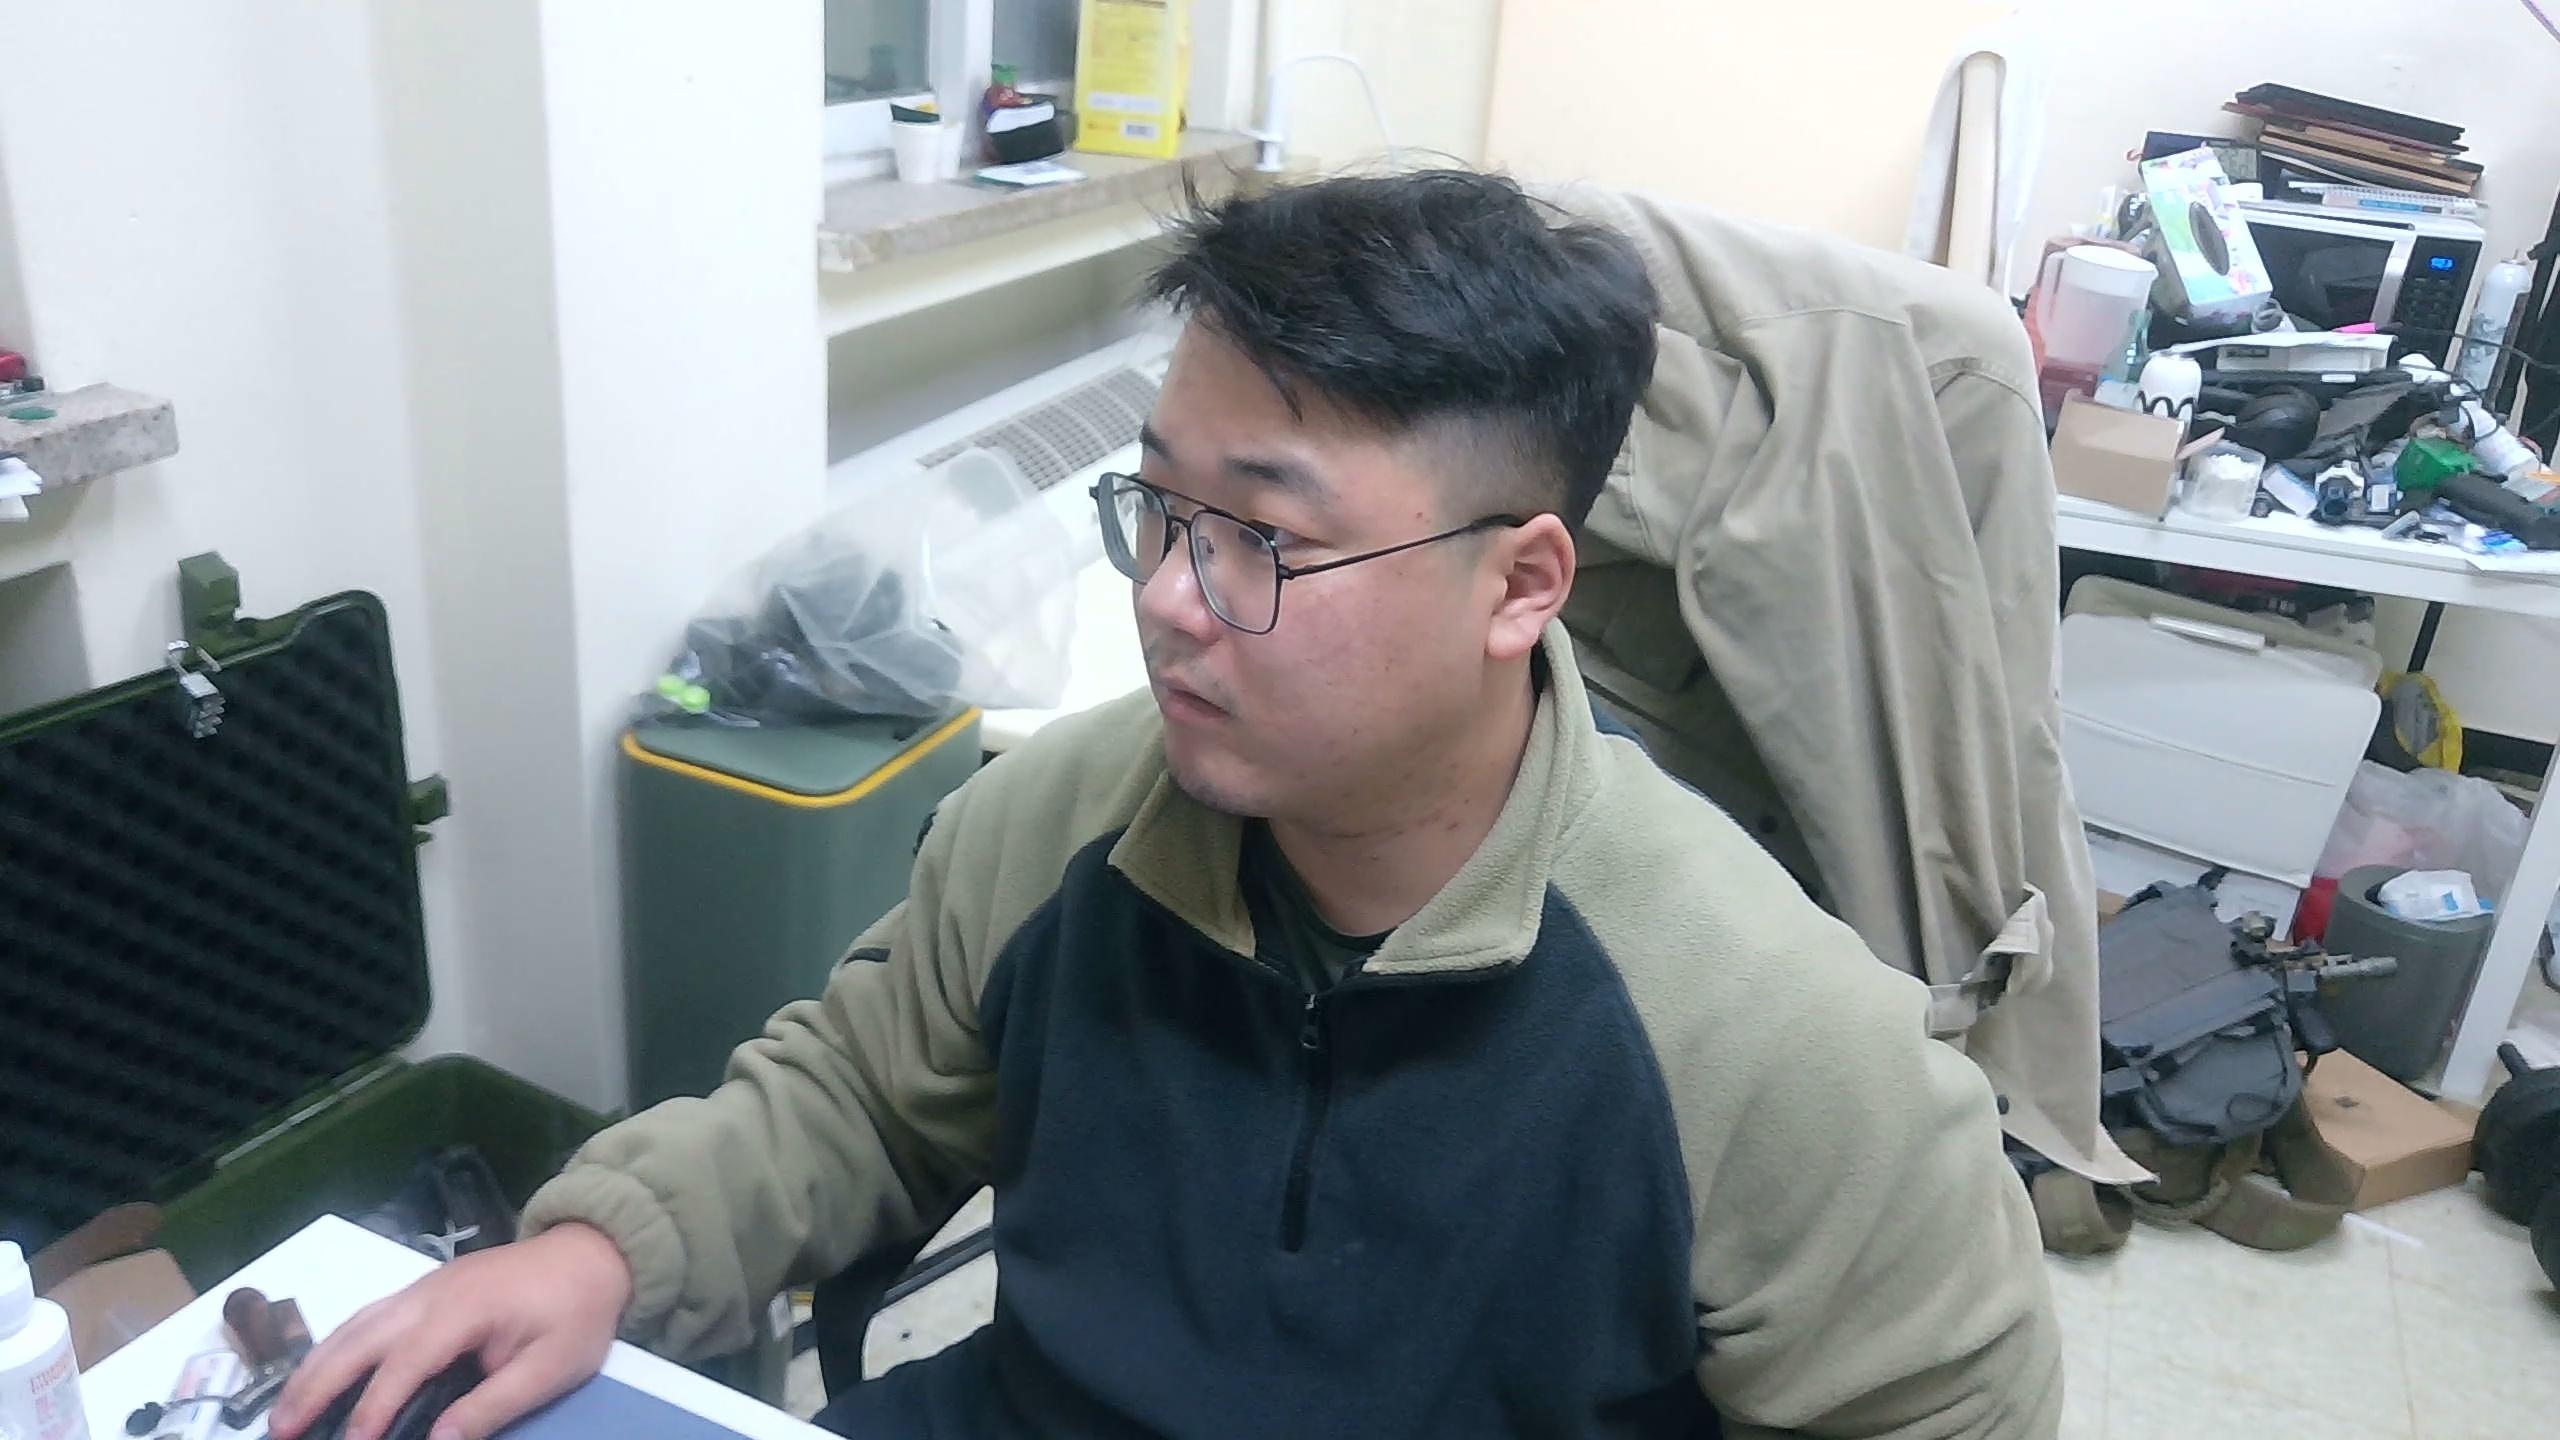blue_pliers: (267, 1349, 491, 1438)
